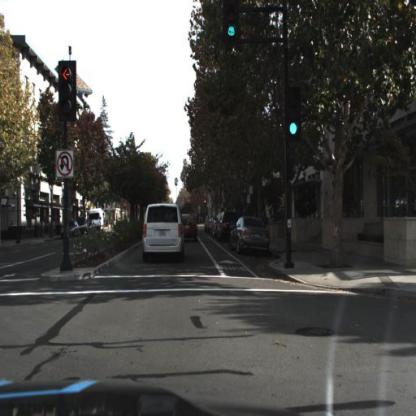car: (139, 196, 189, 264), (226, 215, 271, 256), (174, 203, 202, 247), (217, 212, 238, 240), (87, 206, 105, 233), (61, 220, 81, 239), (78, 215, 89, 239)
trafficLight: (285, 87, 302, 142)
trafficLight-Green: (227, 1, 240, 45)
trafficLight-RedLeft: (57, 59, 77, 121)
